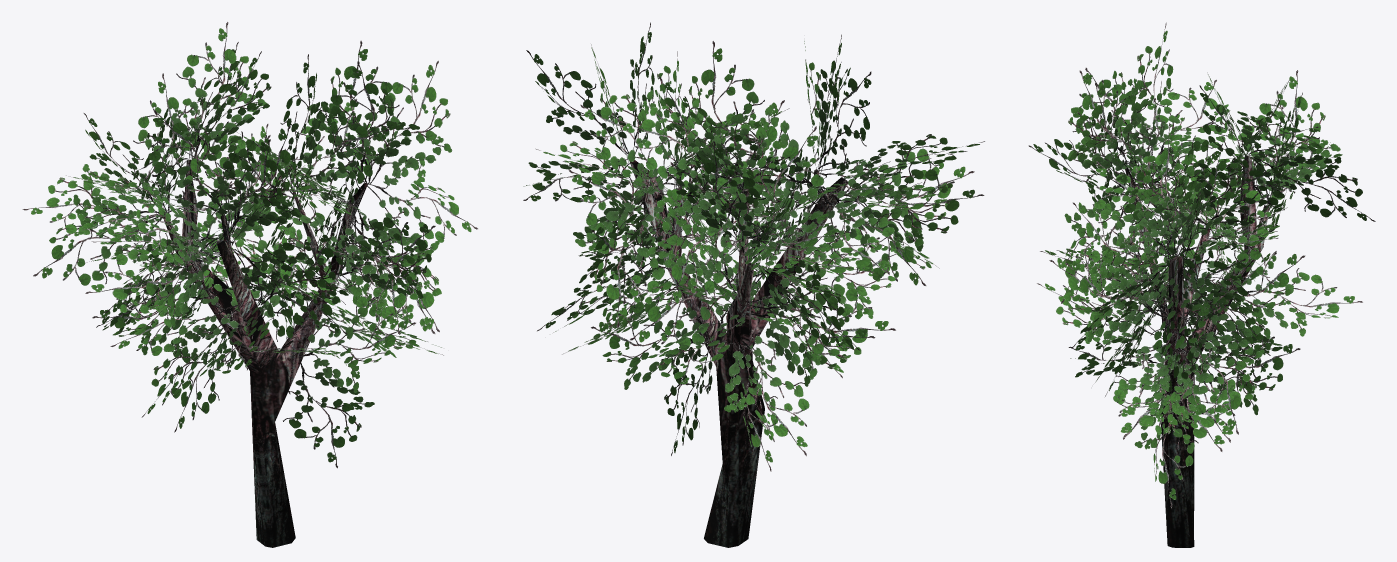
File: TreeMidpoly.fbx
3 views of the same model, side by side, from view 1: azimuth 30°, elevation 25°; view 2: azimuth 150°, elevation 25°; view 3: azimuth 270°, elevation 25° (orthographic). The views are drawn at different scales.
Visible parts, largest first — view 1: Leaves.001; view 2: Leaves.001; view 3: Leaves.001.
Part boxes in pixels (left/top/right/bottom): Leaves.001: left=22, top=22, right=477, bottom=547; Leaves.001: left=523, top=22, right=984, bottom=547; Leaves.001: left=1028, top=22, right=1375, bottom=547.
Bounding box in the file's own units: 1402 × 1599 × 1097.
